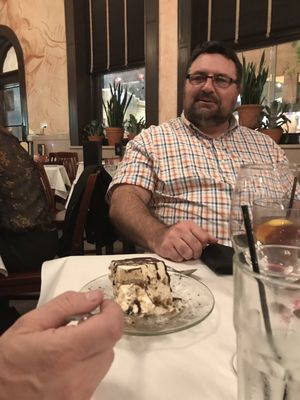curry: (1, 249, 297, 399)
sandwich: (231, 203, 300, 399)
soup: (102, 86, 127, 146)
